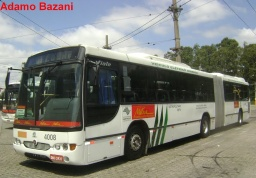bus: (19, 45, 252, 164)
